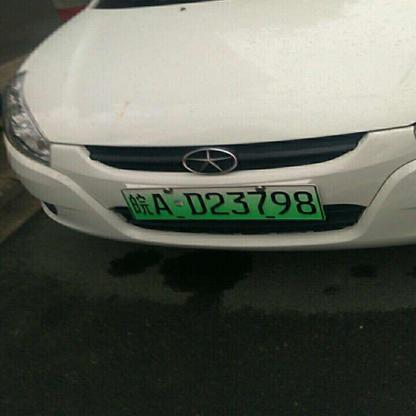lp: (122, 185, 324, 221)
